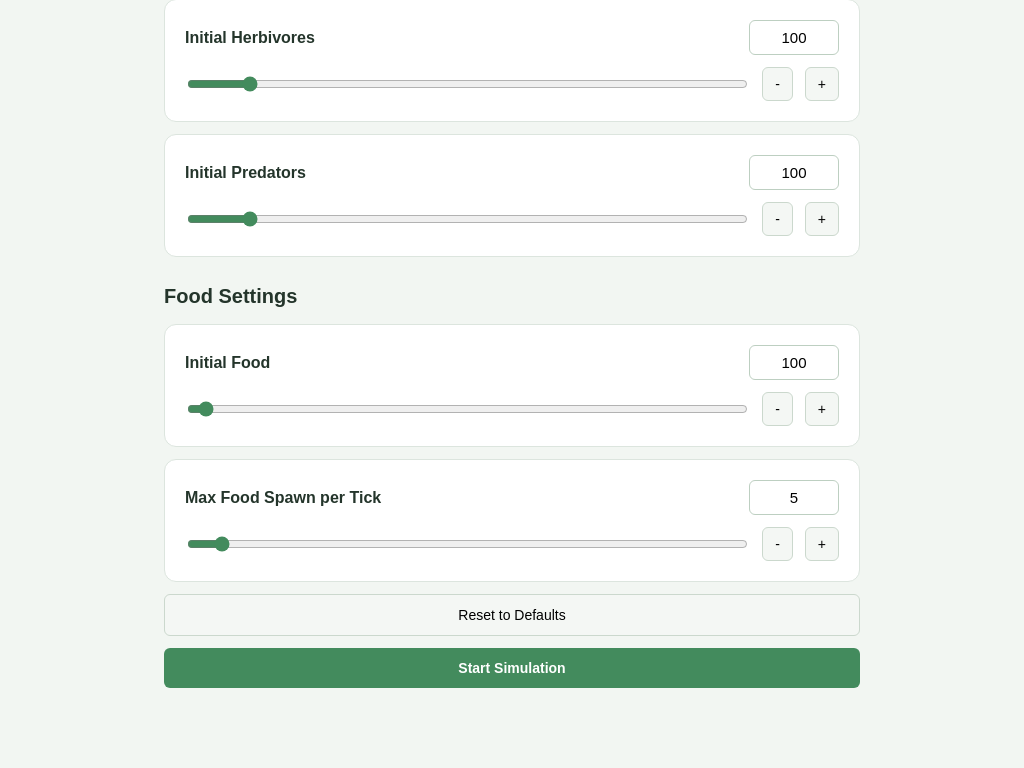
Test: ConfigurationPage › unlocks the form, displays an error, and does not save a session after failure
(page scrolled)
Click the button "Start Simulation".
click(512, 668)  # box [164,648,860,688]
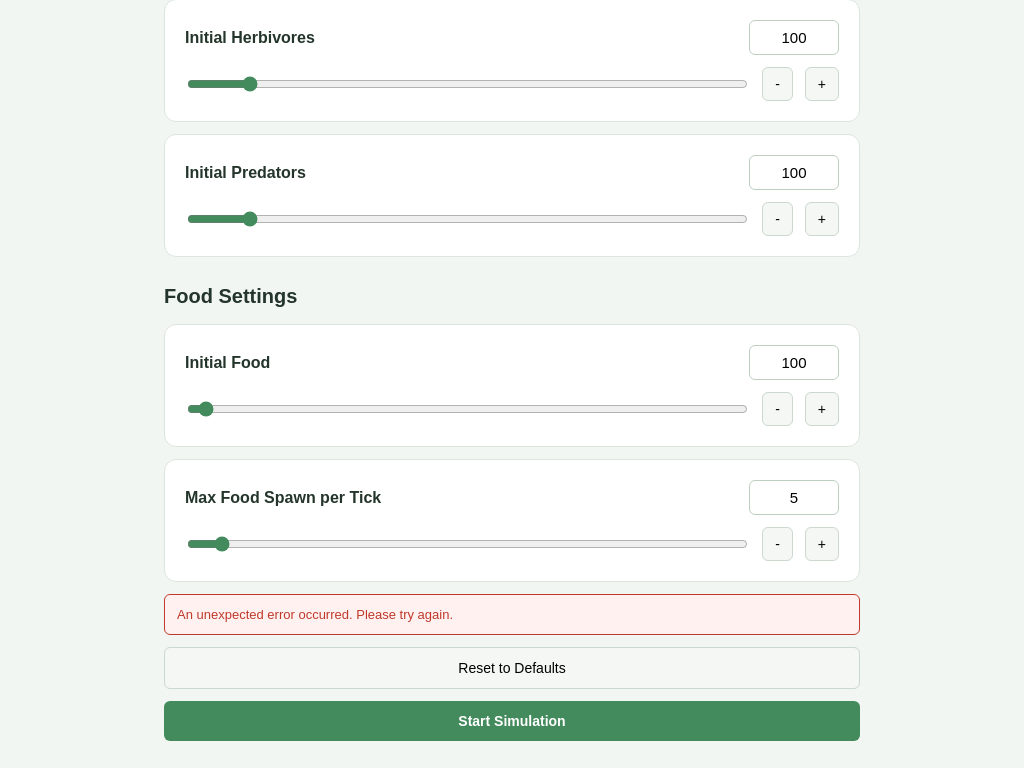
Expected: the button "Start Simulation" is enabled, [164,701,860,741]
Expected: the message reads "An unexpected error occurred. Please try again.", [177,607,453,622]
